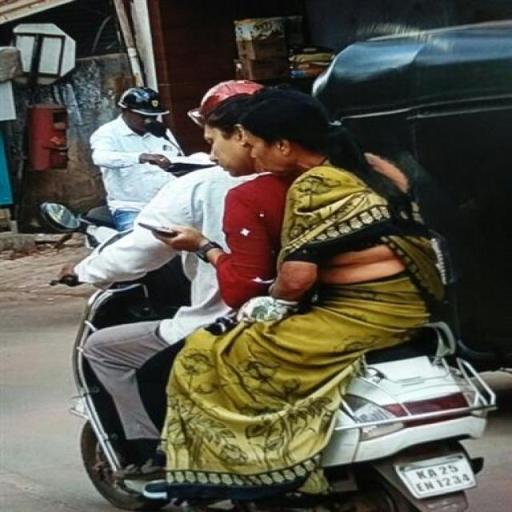tripple riding: (51, 73, 467, 362)
